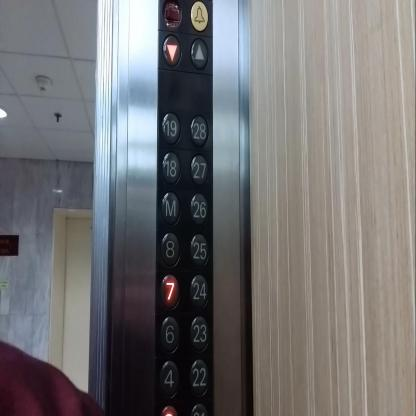18: (161, 150, 181, 185)
19: (160, 112, 181, 146)
22: (189, 358, 208, 397)
23: (189, 314, 209, 352)
24: (189, 273, 208, 308)
25: (189, 233, 209, 267)
26: (190, 192, 208, 225)
27: (190, 154, 209, 186)
28: (189, 113, 209, 148)
4: (160, 359, 178, 399)
6: (160, 316, 180, 352)
7: (160, 273, 180, 309)
8: (160, 231, 180, 268)
M: (161, 190, 180, 226)
alarm: (190, 0, 209, 31)
down: (161, 34, 182, 68)
switch: (164, 6, 180, 23)
up: (190, 37, 209, 72)
